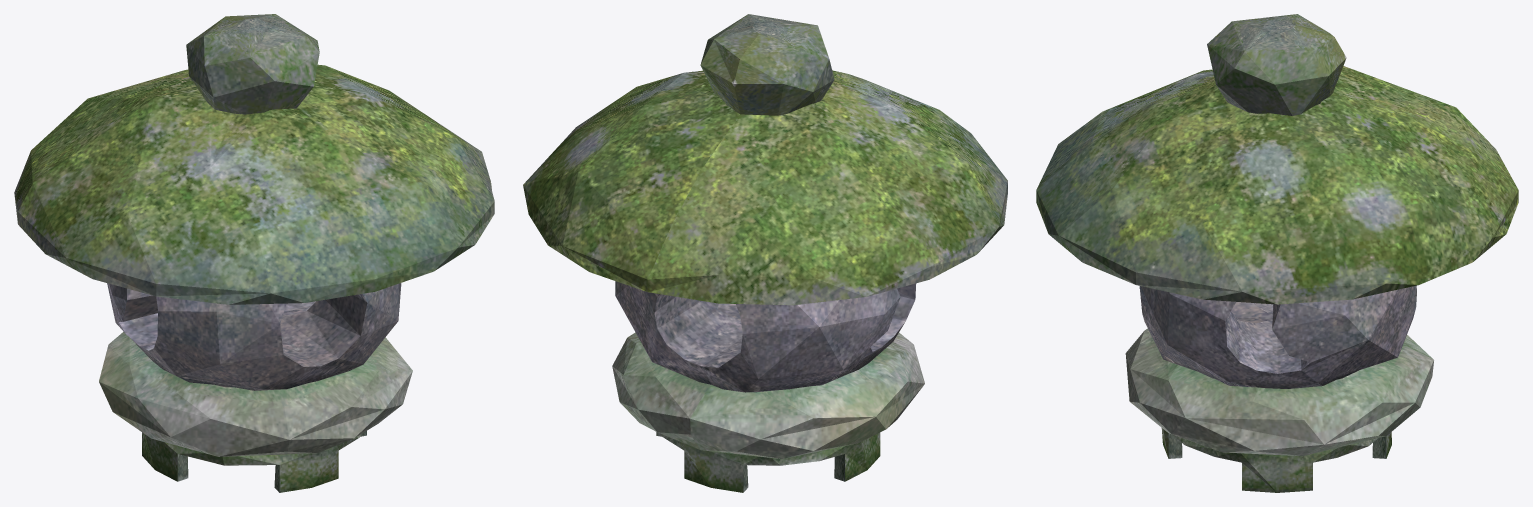
Rendered from StoneLight.fbx.
3 views of the same model, side by side, from view 1: azimuth 30°, elevation 25°; view 2: azimuth 150°, elevation 25°; view 3: azimuth 270°, elevation 25° (orthographic).
Parts seen in each view (by area): view 1: 3D_StoneLight3.mo; view 2: 3D_StoneLight3.mo; view 3: 3D_StoneLight3.mo.
Part boxes in pixels (x1,y1,x2,y2): 3D_StoneLight3.mo: (14,14,494,492); 3D_StoneLight3.mo: (523,14,1007,492); 3D_StoneLight3.mo: (1036,14,1518,492).
Bounding box in the file's own units: 33.25 × 31.83 × 33.19.
Materials: 1 (1 with a texture image).
